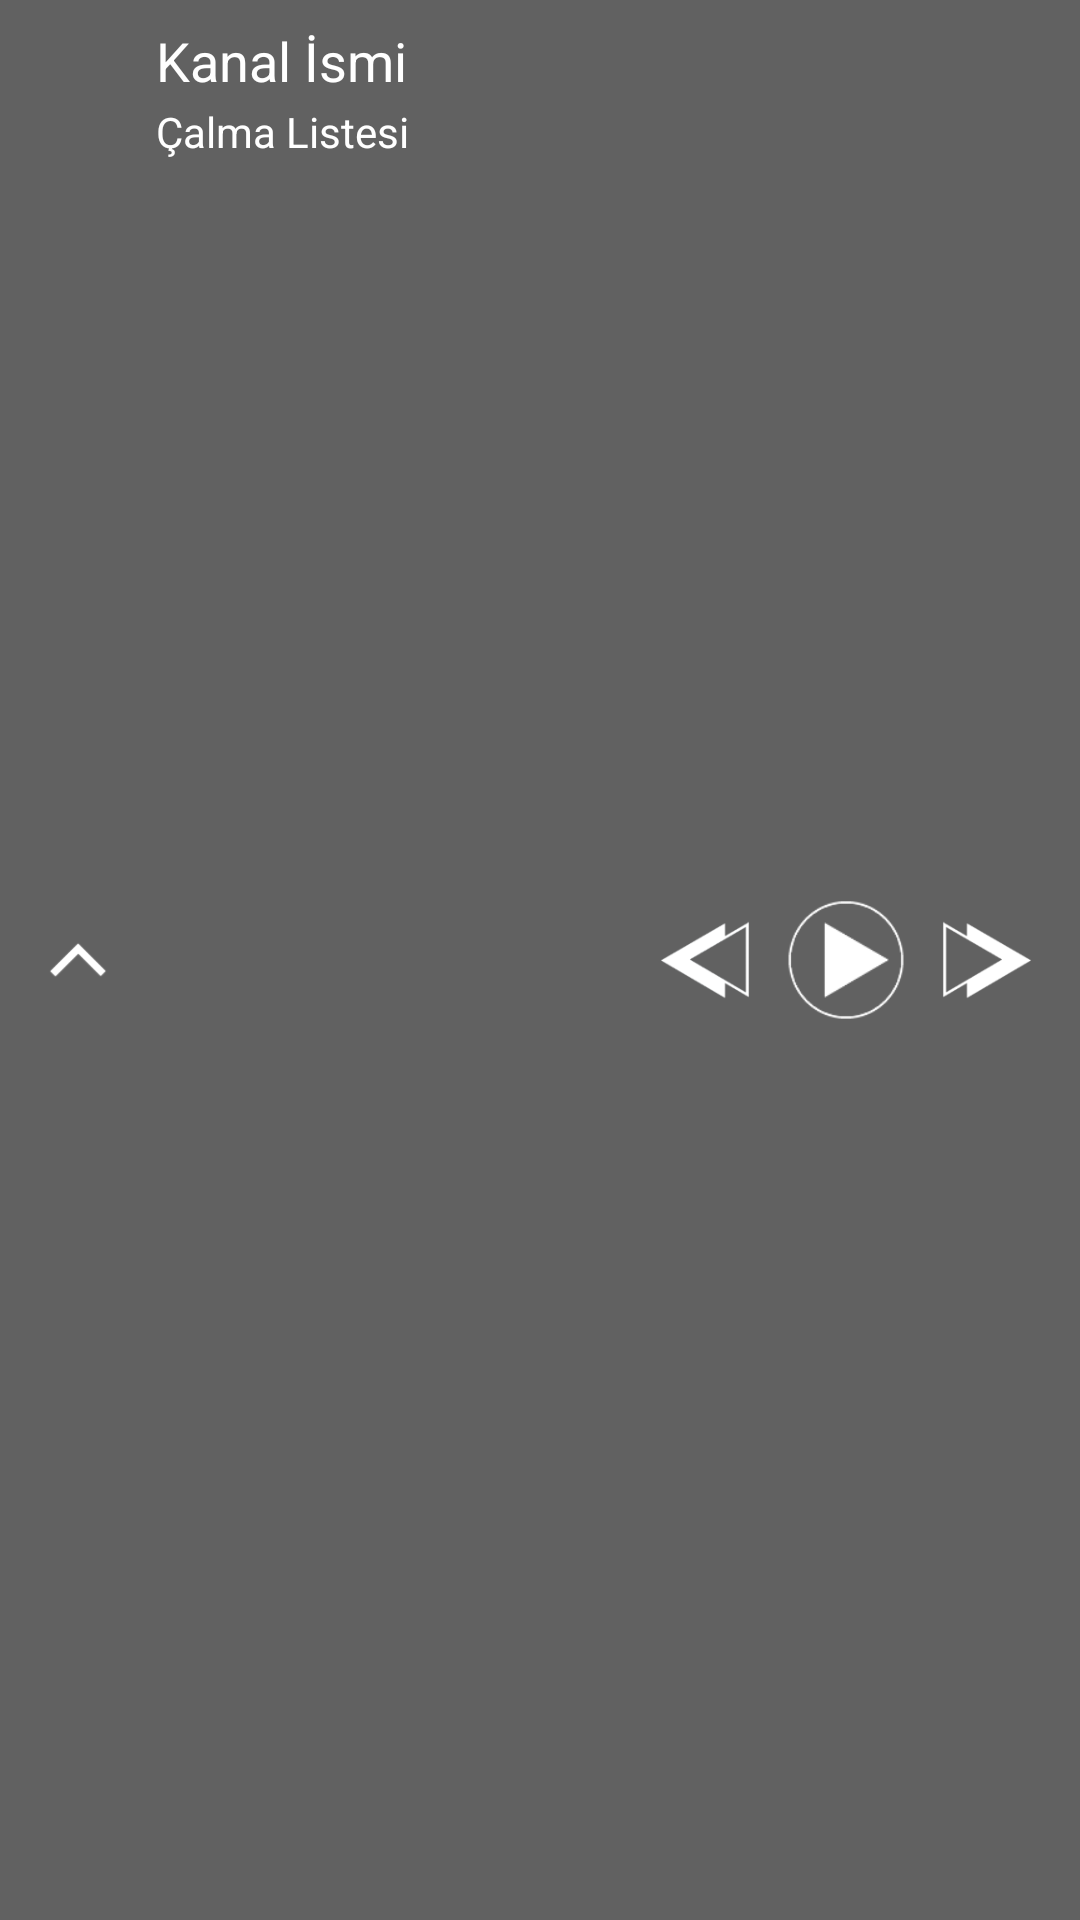

Where to tap for icons on this 1080*1920 app screen, as point (x, y):
arrow up: point (78, 960)
next sc: point (987, 960)
Oynat: point (846, 960)
previous sc: point (705, 960)
